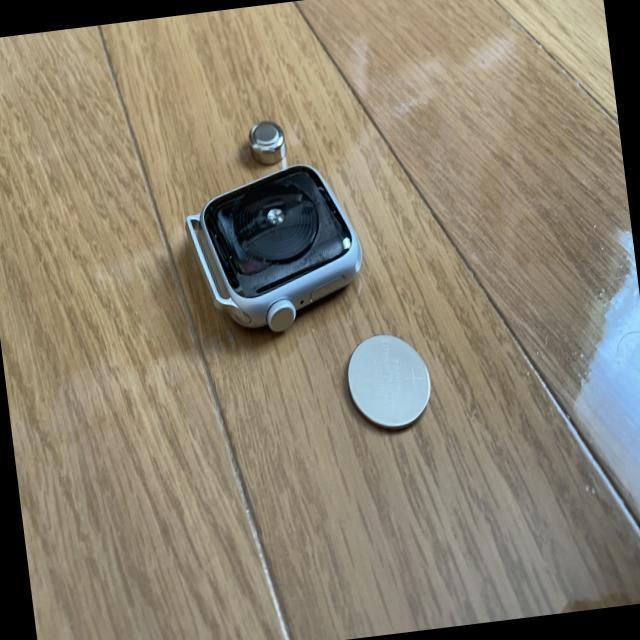COIN: (342, 328, 435, 435), (246, 118, 288, 166)
